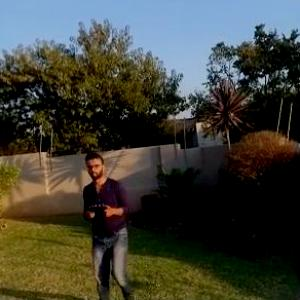follow: (81, 148, 136, 299)
